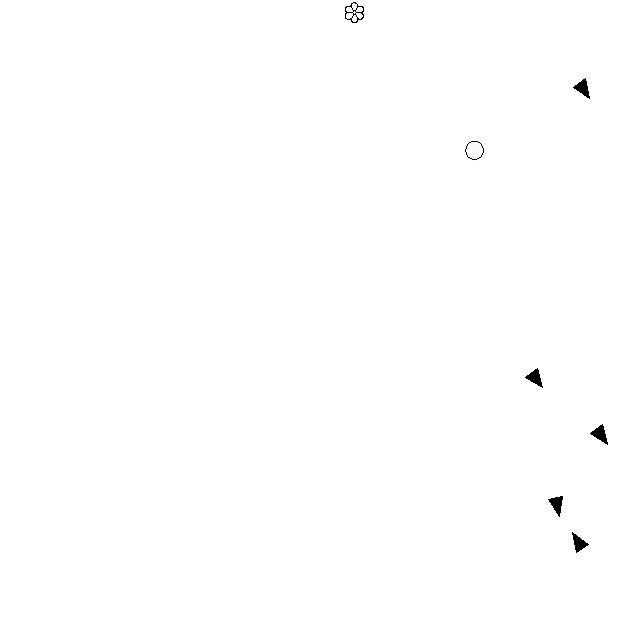Kolodech: (464, 139, 485, 161)
Kyst_2: (342, 1, 367, 24)
Otmetka: (523, 367, 545, 389), (572, 76, 592, 100), (570, 531, 590, 555), (589, 423, 609, 446), (547, 494, 565, 519)
